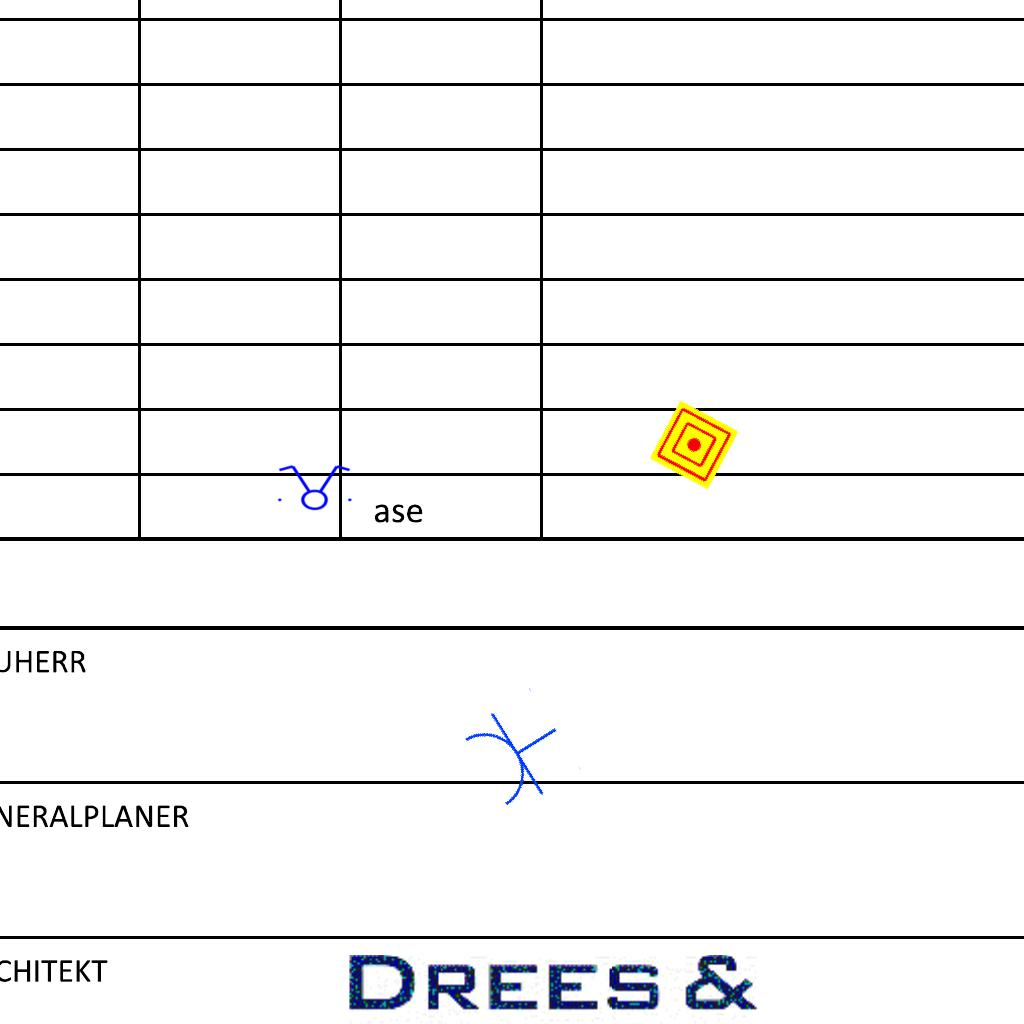NAM-Nichtautomatischer_Melder: (649, 400, 739, 490)
Schukosteckdose_einfach: (455, 686, 583, 817)
Serienschalter: (272, 463, 356, 511)
